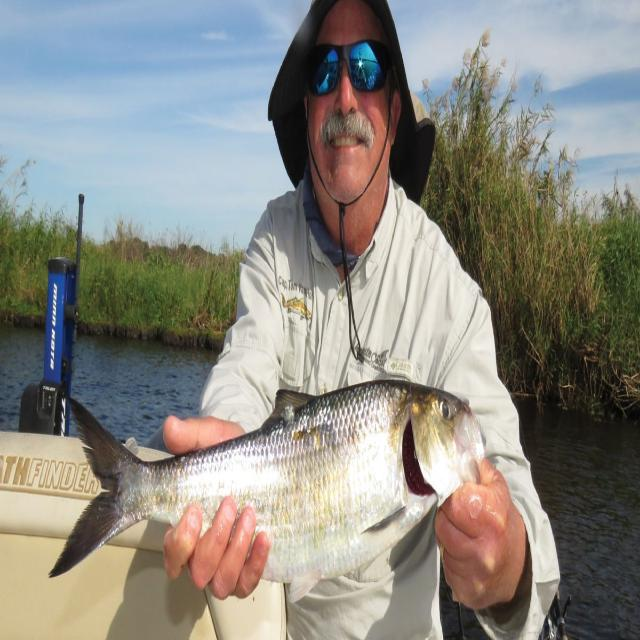Shad - American: (50, 380, 483, 601)
